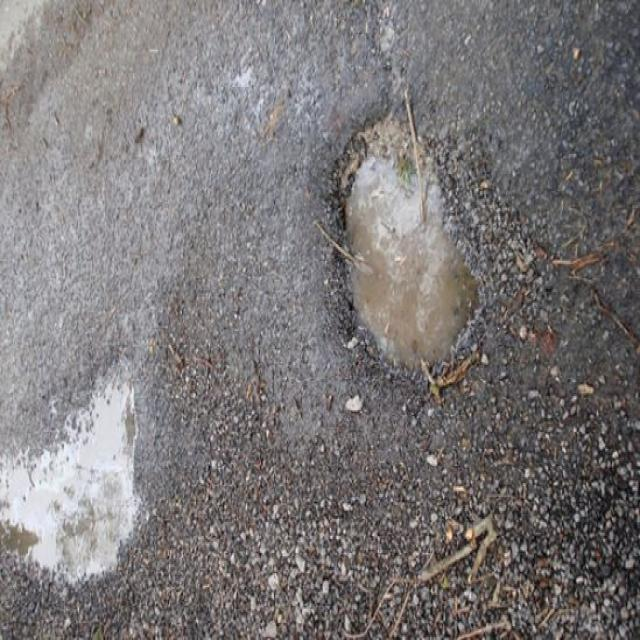pothole: (326, 100, 490, 386)
